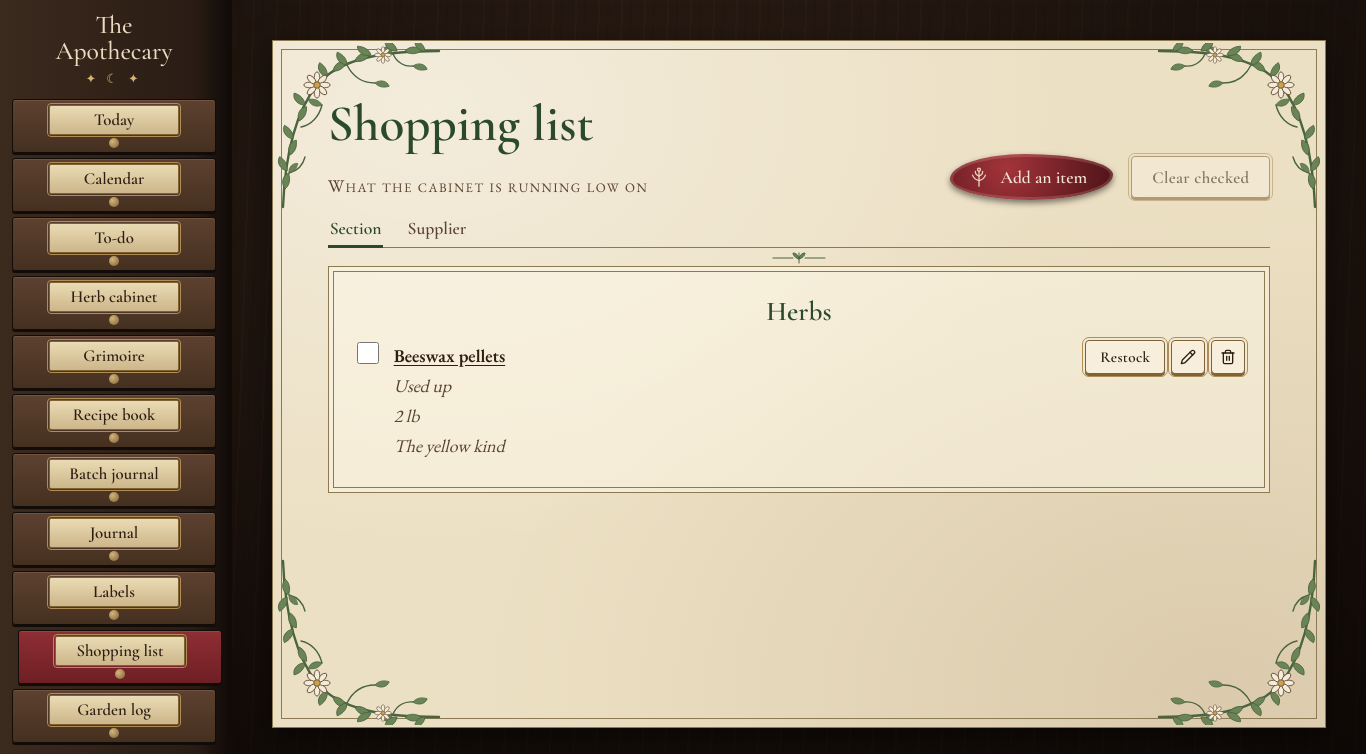
offers Restock, not Bought, for her item that points at a jar, and shows how the jar stands
This screenshot has width=1366, height=754.
Expected: the text "Used up" is shown, [394,374,451,397]
What coordinates should you click on to do the following:
click the button "Restock"
I would click on:
 (1125, 357)
Its box is [1085,340,1165,374].
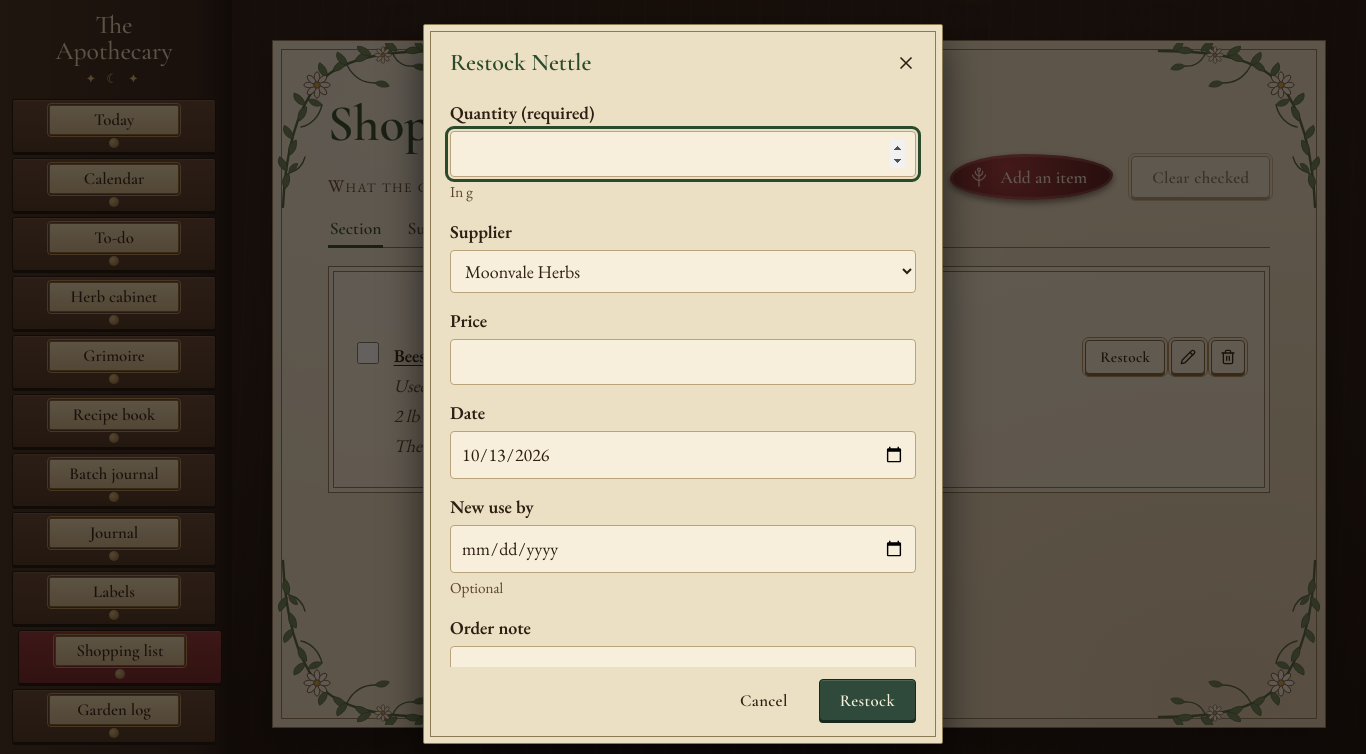
Expected: the dialog is shown, [423,24,943,744]
